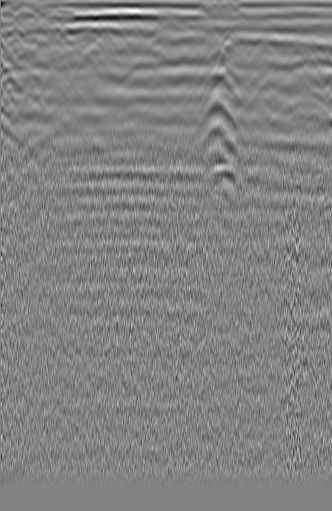가스: (193, 123, 240, 167)
상수: (12, 38, 49, 68)
오수: (284, 44, 310, 69)
우수: (137, 32, 173, 67)
